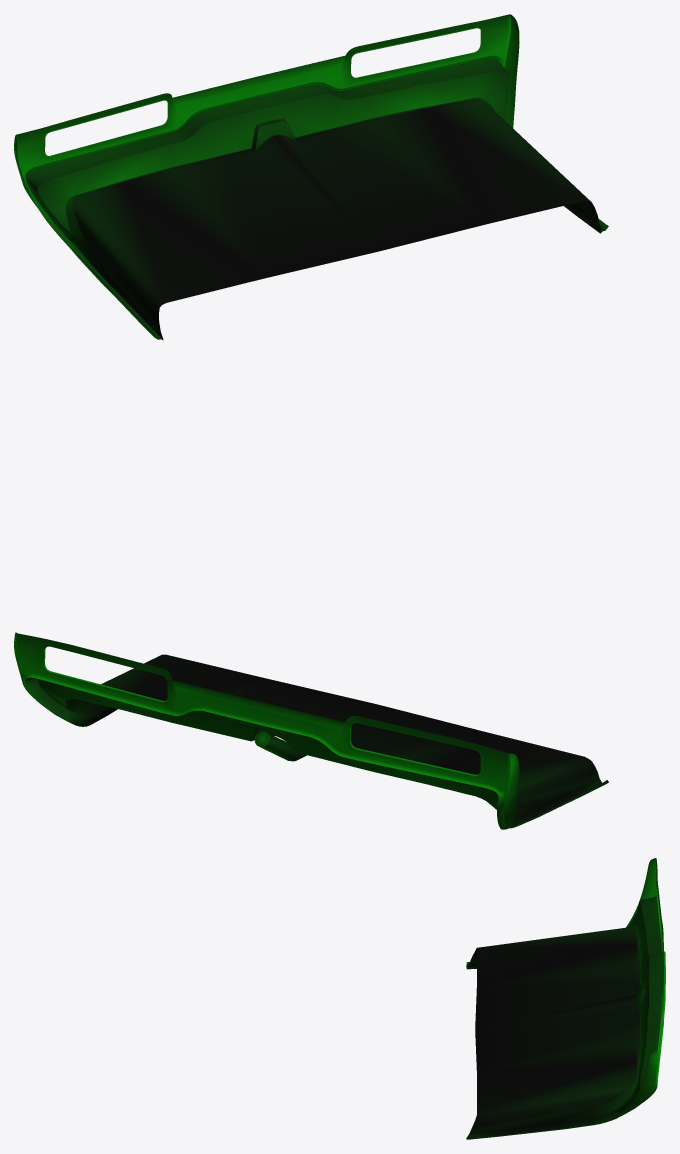
The model's file is Pontiac_GTOTheJudgeClassic_1969_Body4a_lodA.fbx.
3 views of the same model, one above another, from view 1: azimuth 30°, elevation 25°; view 2: azimuth 150°, elevation 25°; view 3: azimuth 270°, elevation 25° (orthographic). The views are drawn at different scales.
Parts seen in each view (by area): view 1: Body4a_Coloured_Geo_lodA; view 2: Body4a_Coloured_Geo_lodA; view 3: Body4a_Coloured_Geo_lodA.
Part boxes in pixels (x1=…): Body4a_Coloured_Geo_lodA: x1=14, y1=14, x2=608, y2=340; Body4a_Coloured_Geo_lodA: x1=14, y1=632, x2=608, y2=829; Body4a_Coloured_Geo_lodA: x1=466, y1=858, x2=665, y2=1139.
Size of the model in its own units: 1.76 by 0.5026 by 2.49.
